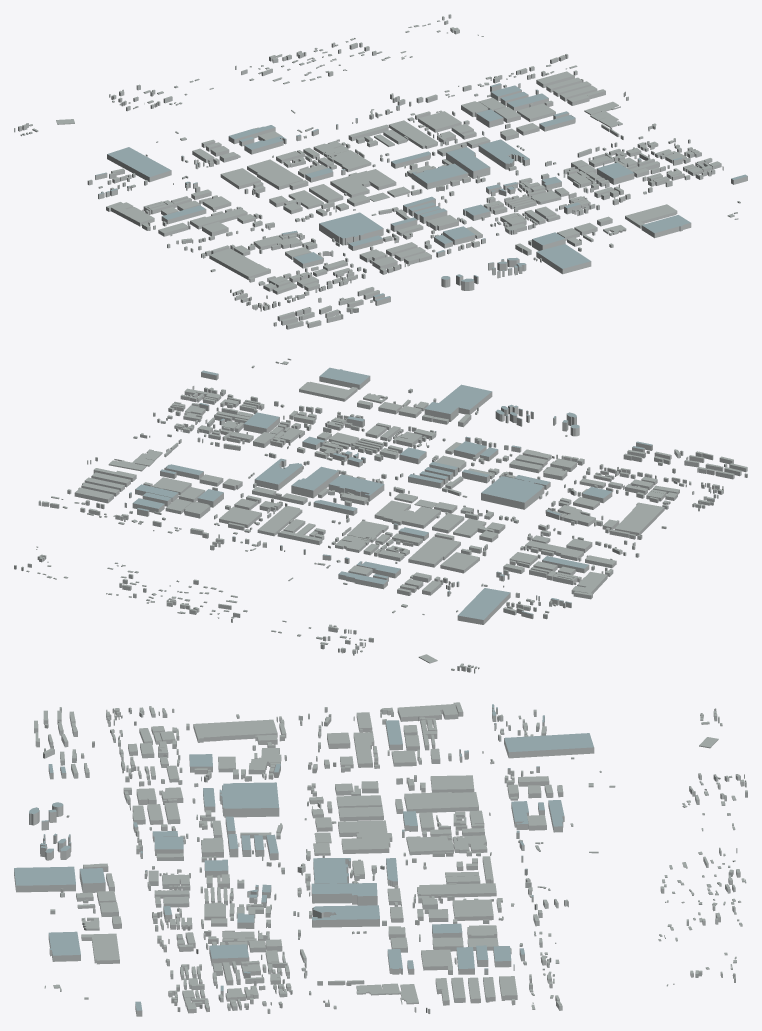
The model's file is far.glb.
The picture shows the model from 3 angles, top to bottom: view 1: azimuth 30°, elevation 25°; view 2: azimuth 150°, elevation 25°; view 3: azimuth 270°, elevation 25°; orthographic projection. The views are drawn at different scales.
Bounding box in the file's own units: 2151 × 36.8 × 2154.
